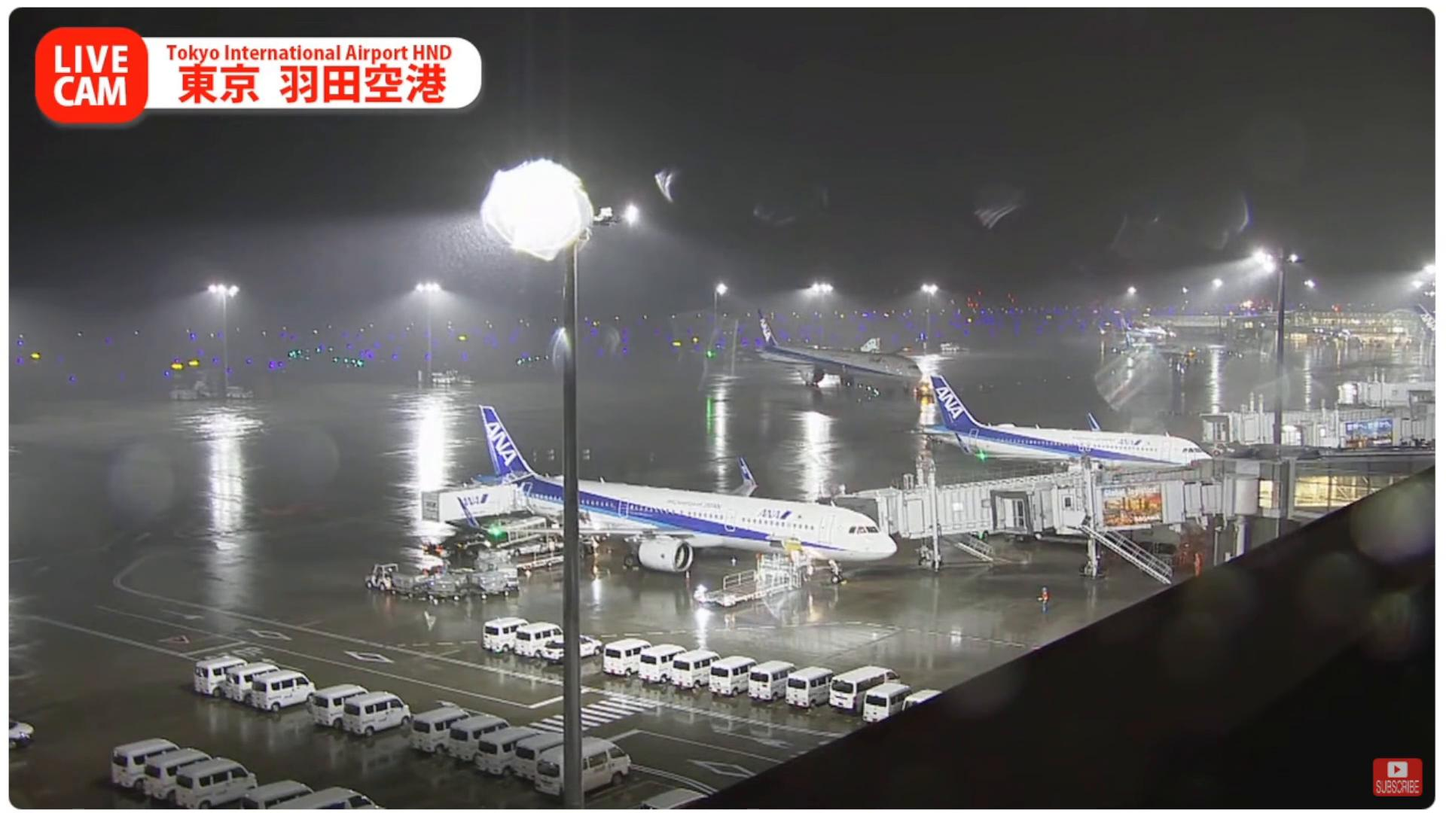Aerobridge: (837, 461, 1193, 540), (988, 473, 1227, 539)
Airplane: (461, 407, 899, 586)
Catering: (421, 483, 529, 555)
Dolly: (400, 552, 521, 600)
JCPL: (692, 533, 821, 610)
Skyloader: (493, 513, 597, 570)
Tractor: (360, 561, 404, 592)
Window: (1289, 476, 1414, 509)
